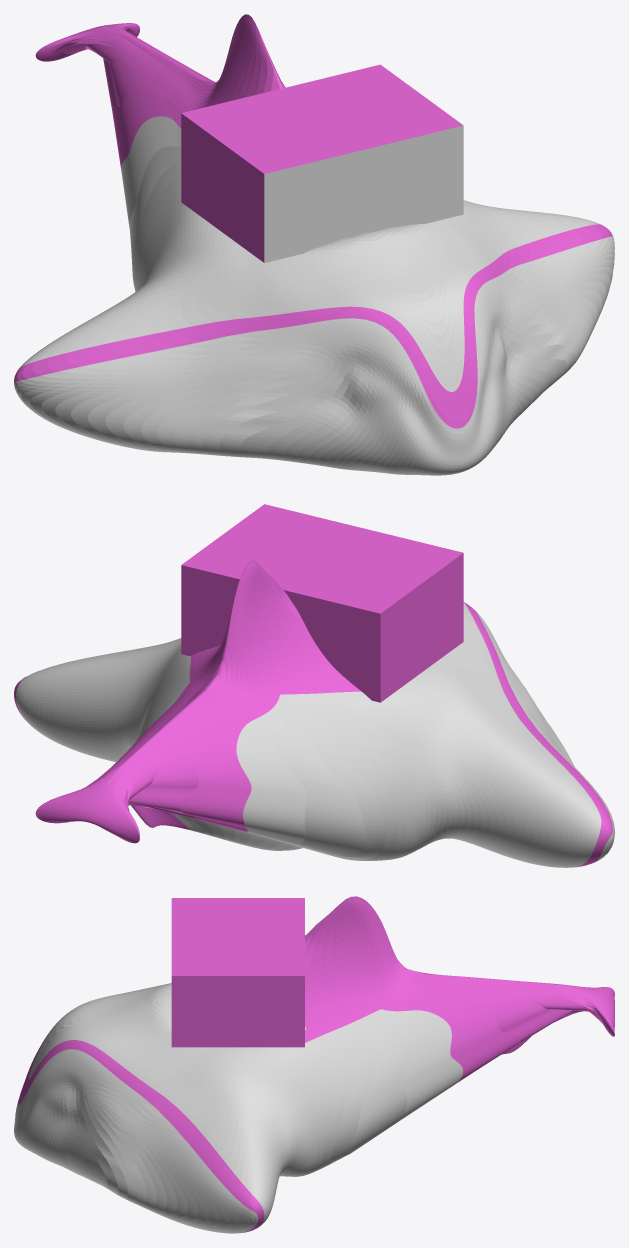
Rendered from knight.glb.
3 views of the same model, one above another, from view 1: azimuth 30°, elevation 25°; view 2: azimuth 150°, elevation 25°; view 3: azimuth 270°, elevation 25° (orthographic). The views are drawn at different scales.
Parts seen in each view (by area): view 1: Quad Sphere, Cube; view 2: Quad Sphere, Cube; view 3: Quad Sphere, Cube.
Part boxes in pixels (x1,y1,x2,y2): Quad Sphere: (14,14,614,475); Cube: (181,64,463,262); Quad Sphere: (14,560,614,867); Cube: (181,504,463,702); Quad Sphere: (14,896,614,1233); Cube: (171,898,304,1047).
Bounding box in the file's own units: 3.67 × 1.86 × 3.99.
